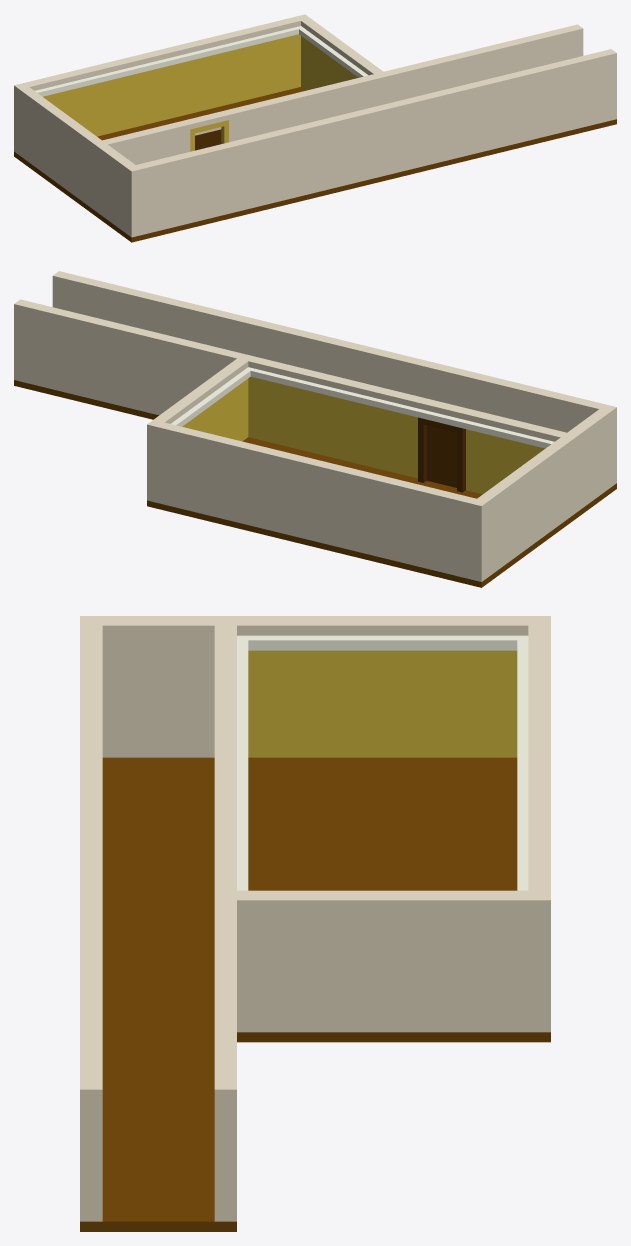
The model's file is raumtest.obj.
The picture shows the model from 3 angles, top to bottom: view 1: azimuth 30°, elevation 25°; view 2: azimuth 150°, elevation 25°; view 3: azimuth 270°, elevation 25°; orthographic projection. The views are drawn at different scales.
Size of the model in its own units: 100 by 14 by 42.
Materials: 1 (1 with a texture image).
